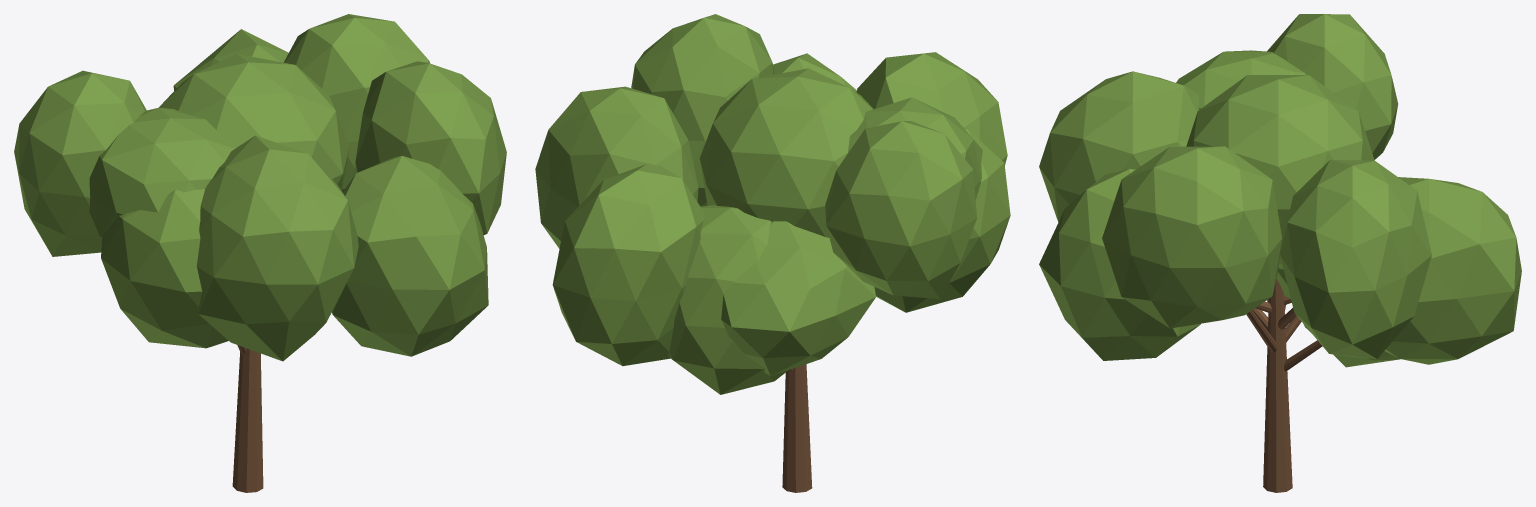
Rendered from deciduous-3.glb.
The picture shows the model from 3 angles, left to right: view 1: azimuth 30°, elevation 25°; view 2: azimuth 150°, elevation 25°; view 3: azimuth 270°, elevation 25°; orthographic projection. The views are drawn at different scales.
Parts seen in each view (by area): view 1: deciduous-3; view 2: deciduous-3; view 3: deciduous-3.
Boxes of the visible parts, box(x1,y1,x2,y2) form: deciduous-3: box(14, 14, 506, 492); deciduous-3: box(535, 14, 1010, 492); deciduous-3: box(1039, 14, 1521, 492).
Bounding box in the file's own units: 5.89 × 5.7 × 6.08.
